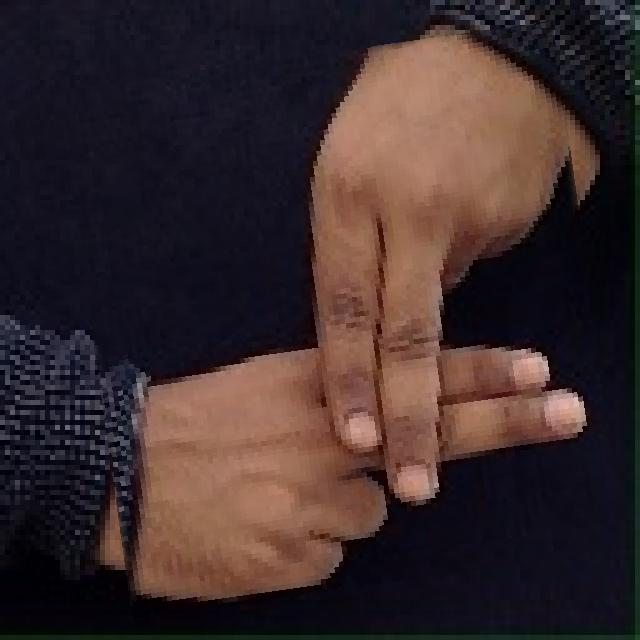F: (76, 37, 609, 604)
